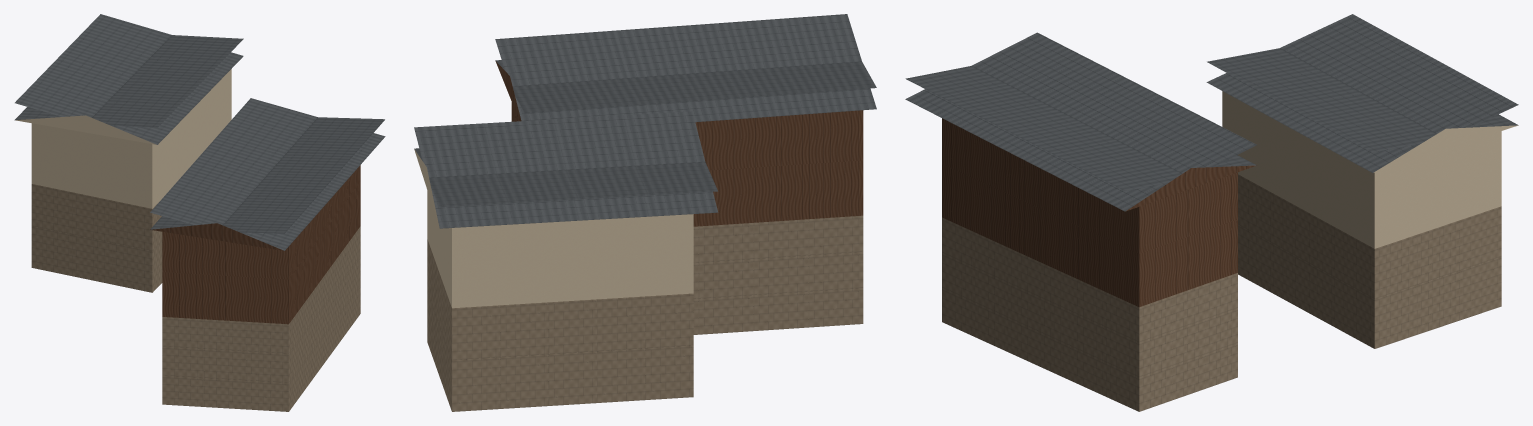
Rendered from bld_c7_33_492.gltf.
The picture shows the model from 3 angles, left to right: view 1: azimuth 30°, elevation 25°; view 2: azimuth 150°, elevation 25°; view 3: azimuth 270°, elevation 25°; orthographic projection. The views are drawn at different scales.
Visible parts, largest first — view 1: bld_c7_33_492; view 2: bld_c7_33_492; view 3: bld_c7_33_492.
Part boxes in pixels (x1=…): bld_c7_33_492: x1=14, y1=14, x2=385, y2=411; bld_c7_33_492: x1=414, y1=14, x2=876, y2=411; bld_c7_33_492: x1=905, y1=14, x2=1518, y2=411.
Size of the model in its own units: 16.79 by 12.1 by 27.1.
Materials: 6 (6 with a texture image).
